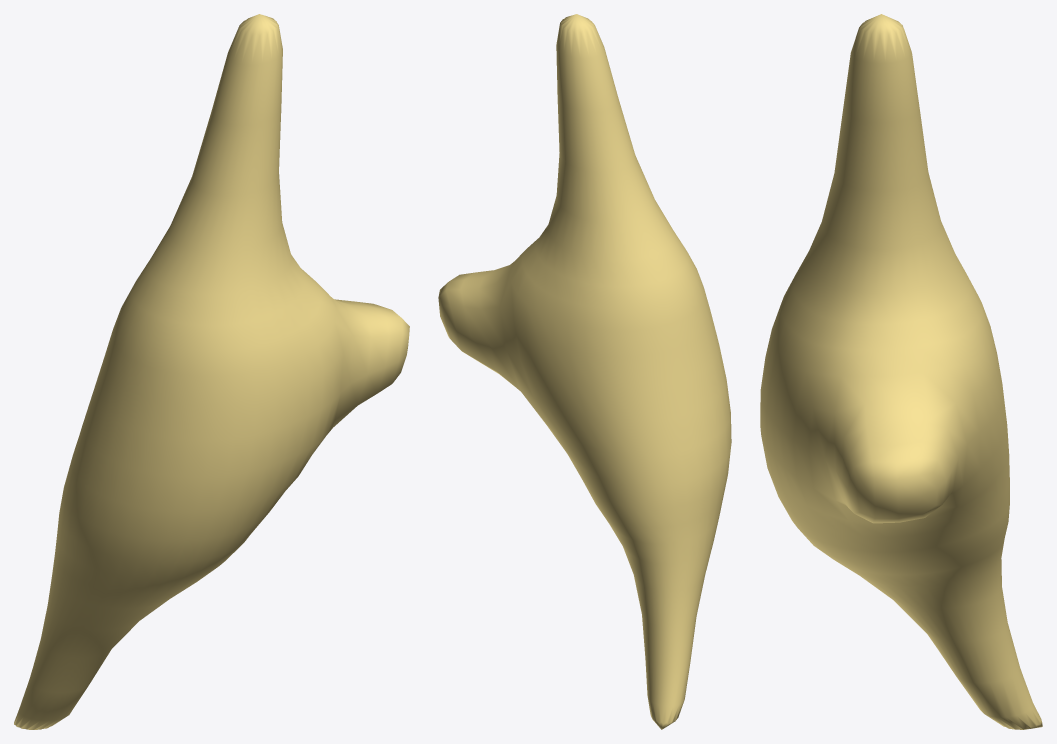
3 views of the same model, side by side, from view 1: azimuth 30°, elevation 25°; view 2: azimuth 150°, elevation 25°; view 3: azimuth 270°, elevation 25° (orthographic). The views are drawn at different scales.
Parts seen in each view (by area): view 1: ZA_ee74d5d43b2f7be7; view 2: ZA_ee74d5d43b2f7be7; view 3: ZA_ee74d5d43b2f7be7.
Part boxes in pixels (bbox=[...]): ZA_ee74d5d43b2f7be7: bbox=[14, 14, 409, 729]; ZA_ee74d5d43b2f7be7: bbox=[438, 14, 731, 729]; ZA_ee74d5d43b2f7be7: bbox=[760, 14, 1042, 729].
Size of the model in its own units: 0.0065 by 0.0137 by 0.00435.
